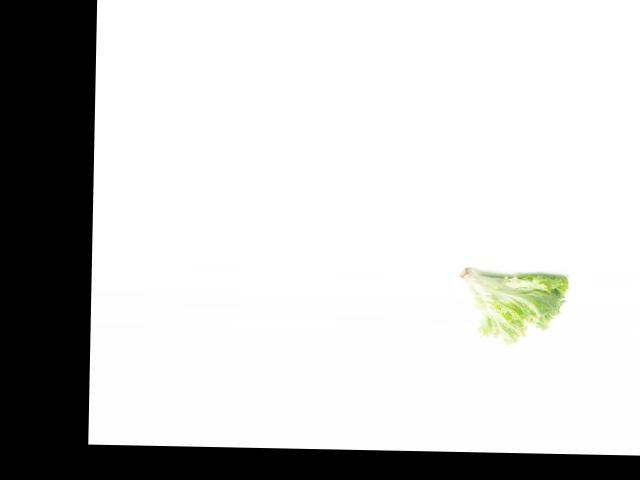lettuce: (456, 265, 568, 346)
